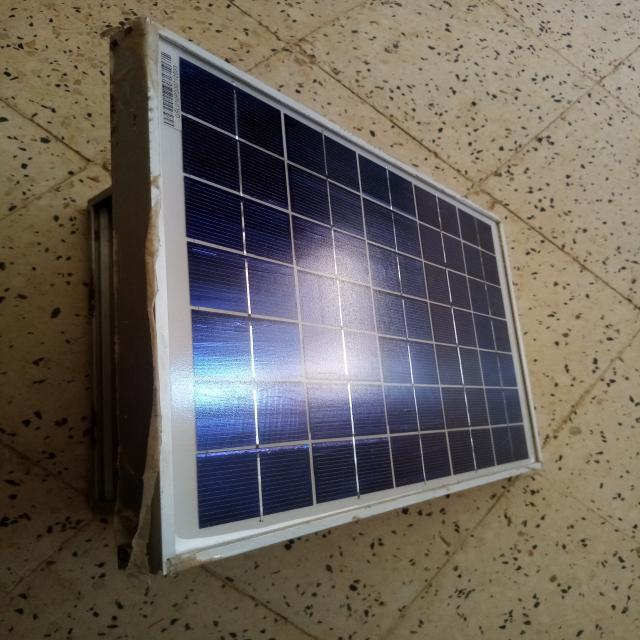no faulty: (142, 20, 537, 572)
